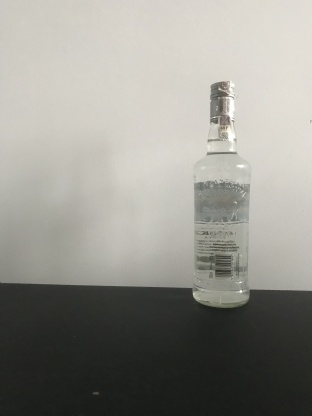nakretka: (208, 78, 237, 124)
